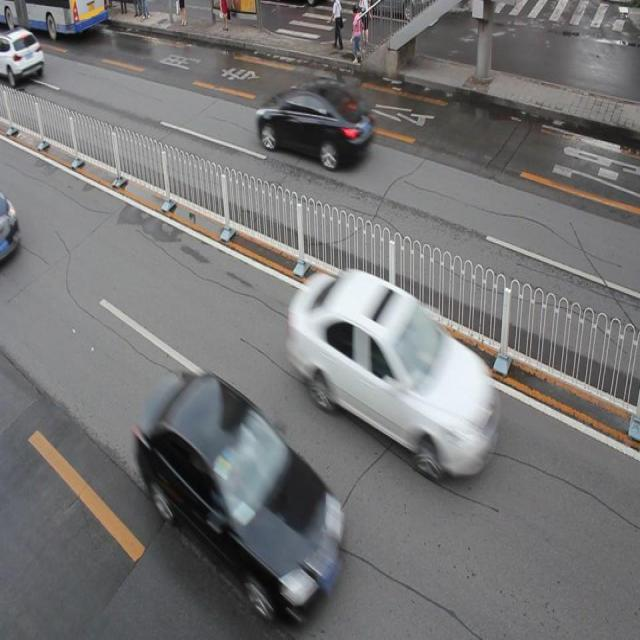car: (136, 374, 341, 605), (290, 266, 496, 477), (257, 80, 373, 170), (1, 27, 45, 88)
